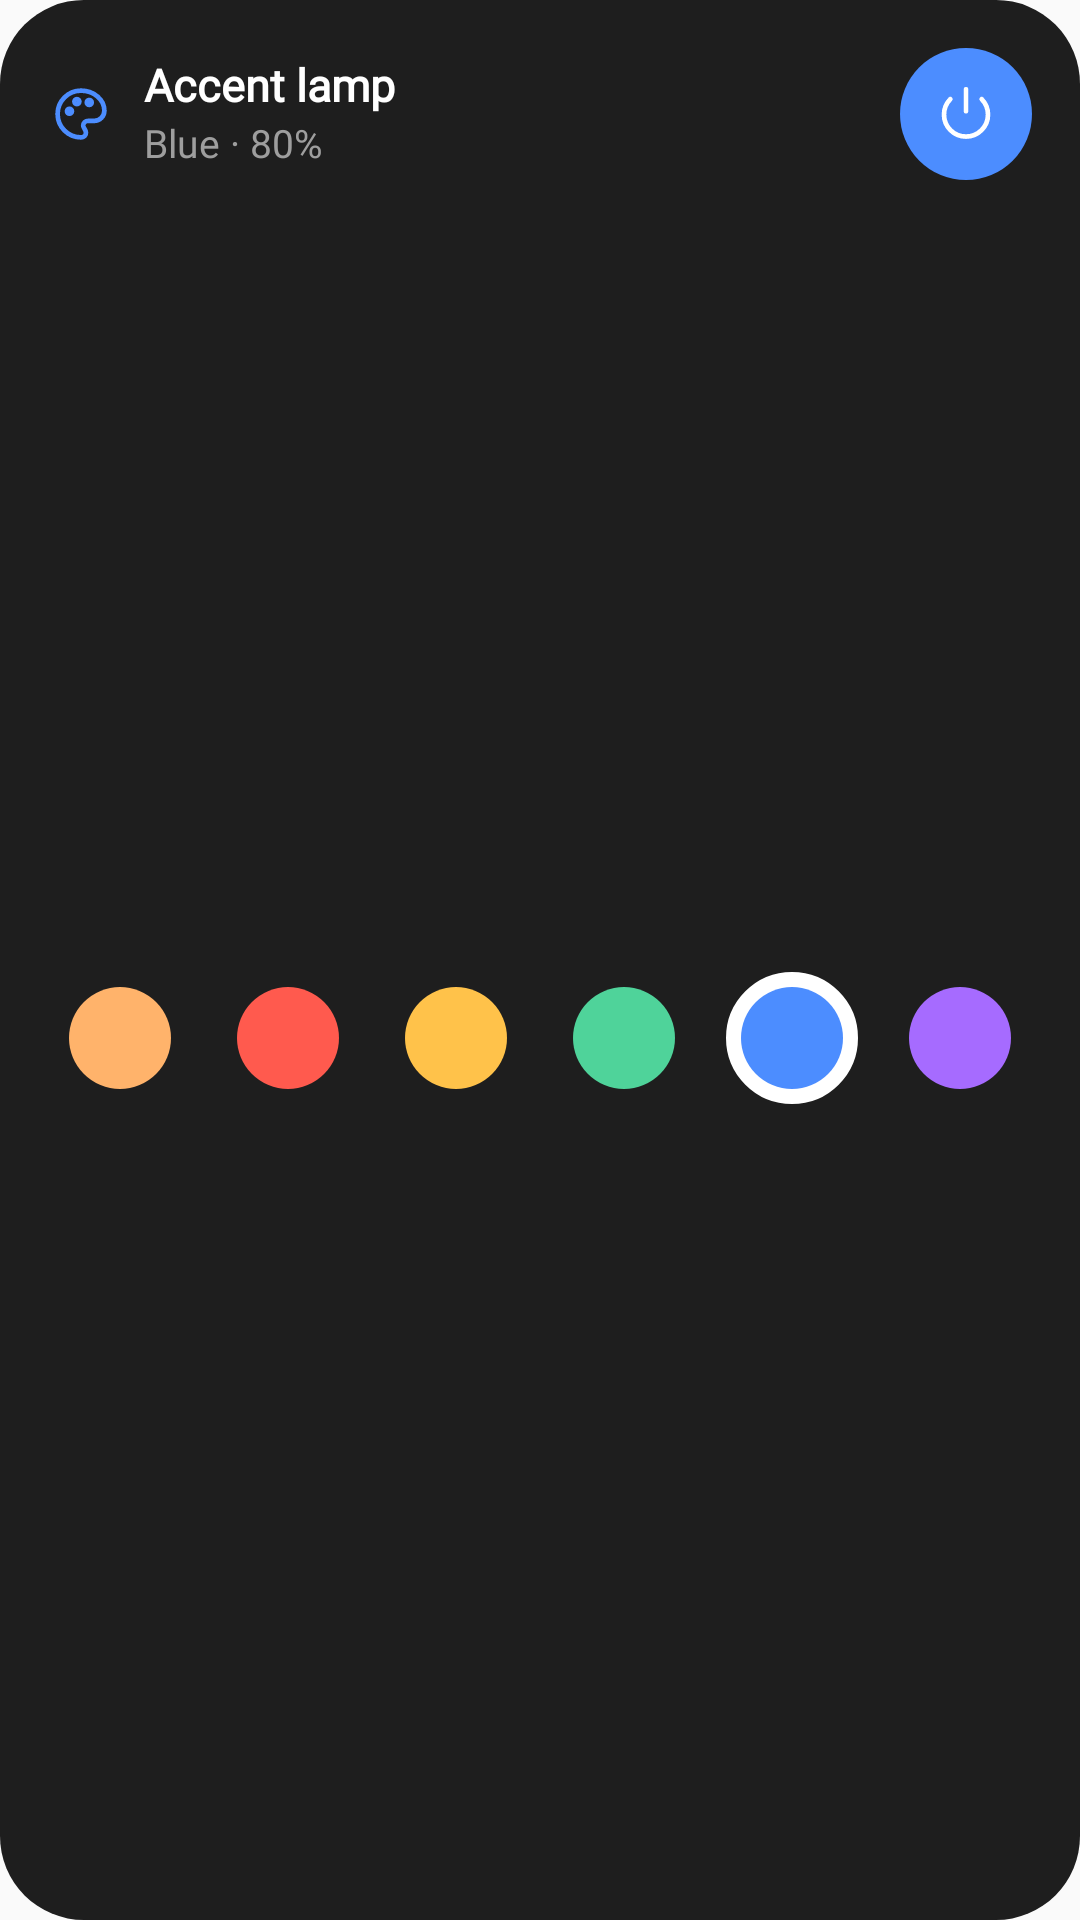

Screen size 1080 x 1920. Icon name, then its center in pixels as (x=x, y=y):
wi palette: (x=81, y=114)
